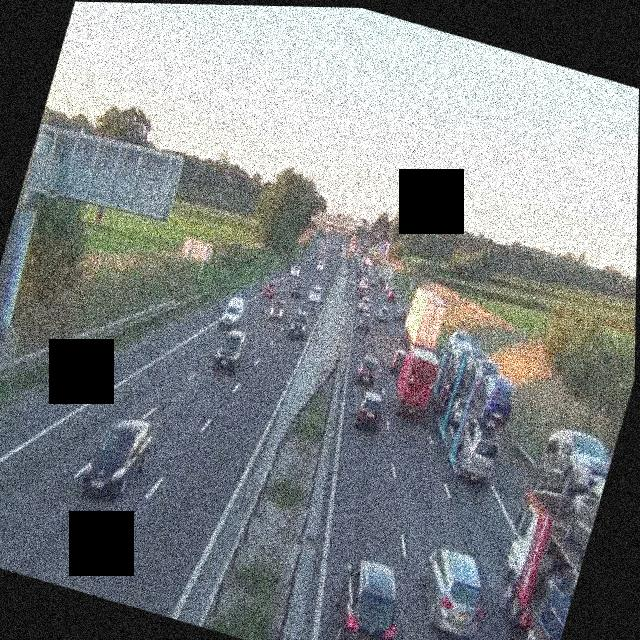car: (407, 543, 496, 640), (318, 552, 412, 640), (80, 409, 157, 510), (534, 423, 616, 507), (467, 369, 521, 434), (462, 352, 504, 403), (211, 324, 251, 377), (351, 388, 387, 432), (219, 292, 248, 331), (446, 326, 479, 359), (353, 350, 381, 385), (287, 309, 311, 341), (386, 348, 407, 376), (266, 297, 287, 321), (355, 310, 374, 334), (307, 283, 324, 305), (375, 304, 392, 324), (261, 278, 277, 298), (396, 305, 410, 326), (289, 281, 304, 299), (290, 263, 303, 279), (357, 287, 370, 303), (386, 286, 397, 302)
truck: (468, 478, 600, 640), (553, 470, 606, 580), (383, 339, 444, 422), (397, 283, 452, 358)
